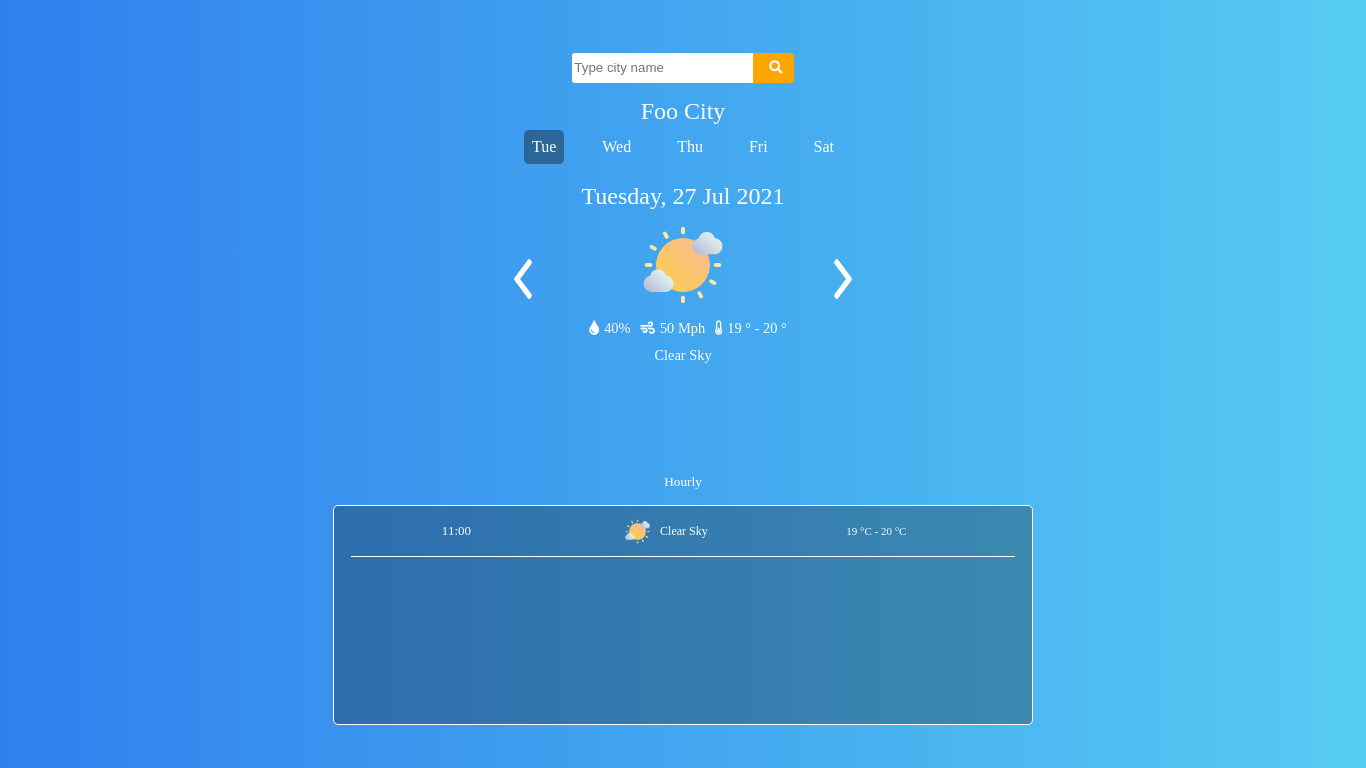
Test: should fetch again when user submit a new city
Expected: the heading with test id "city-name" reads "foo city", [641,98,725,124]
Expected: the text "Tue" is shown, [524,130,564,164]
submit search input
Submit the form from the field with test id "input-search-city", box [572,53,753,83]
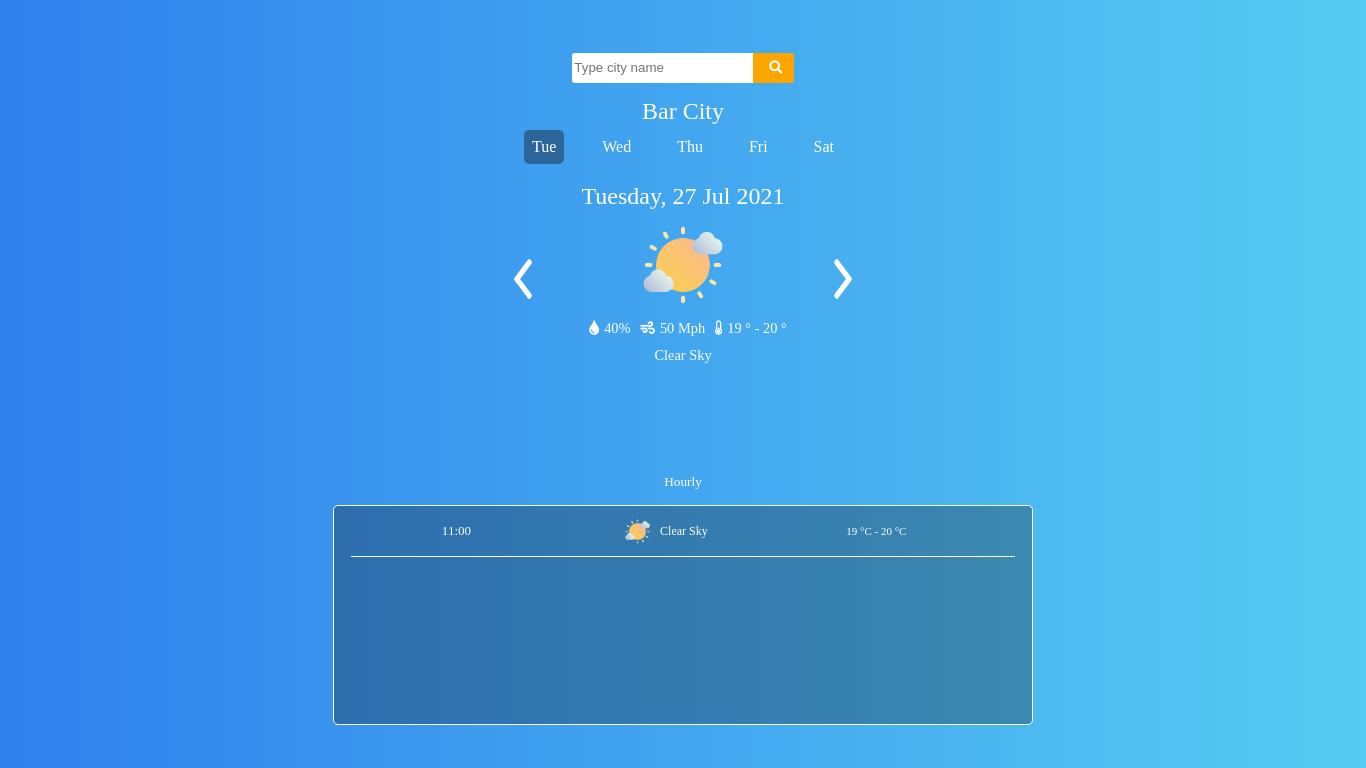
Expected: the text "Tue" is shown, [524,130,564,164]
Expected: the heading with test id "city-name" reads "bar city", [642,98,724,124]
click search button
Click the button with test id "button-search-city".
click(773, 68)  # box [753,53,794,83]
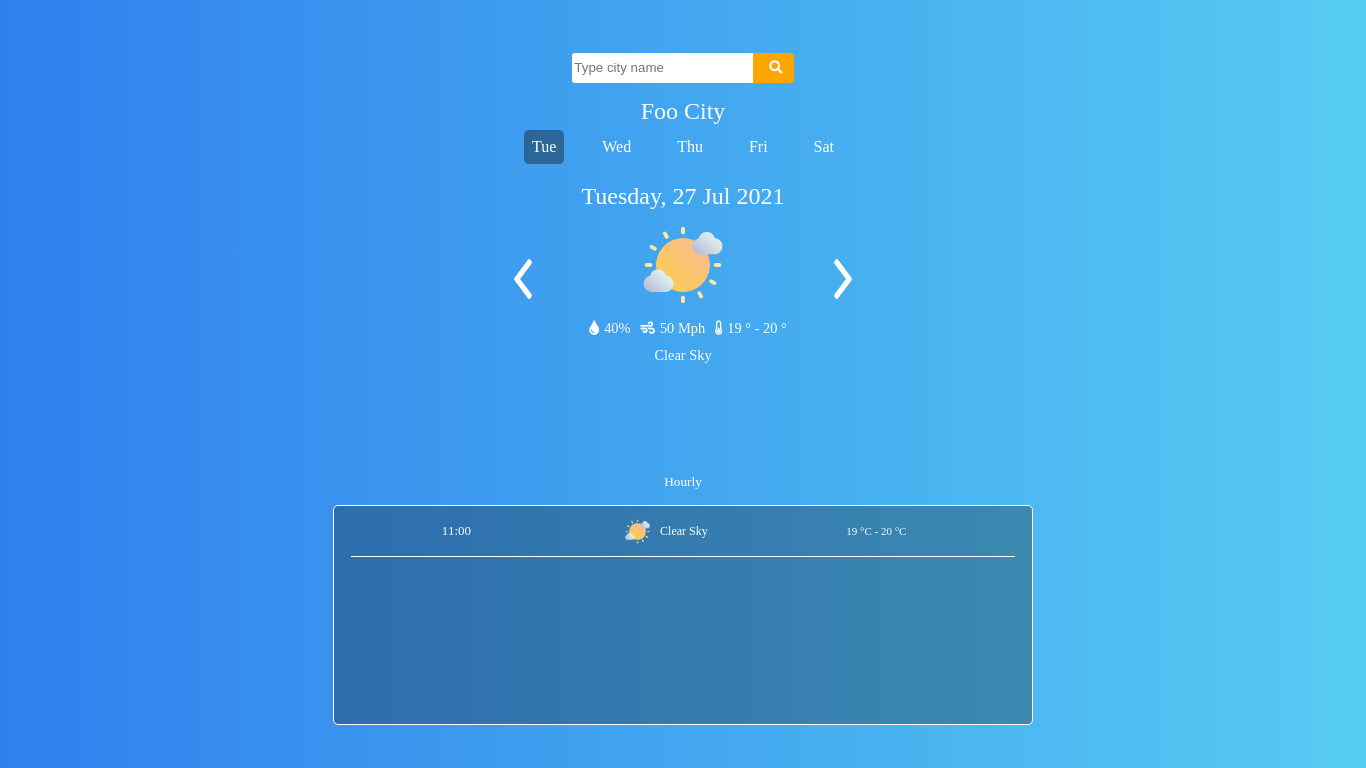
Expected: the text "Tue" is shown, [524,130,564,164]
Expected: the heading with test id "city-name" reads "foo city", [641,98,725,124]
